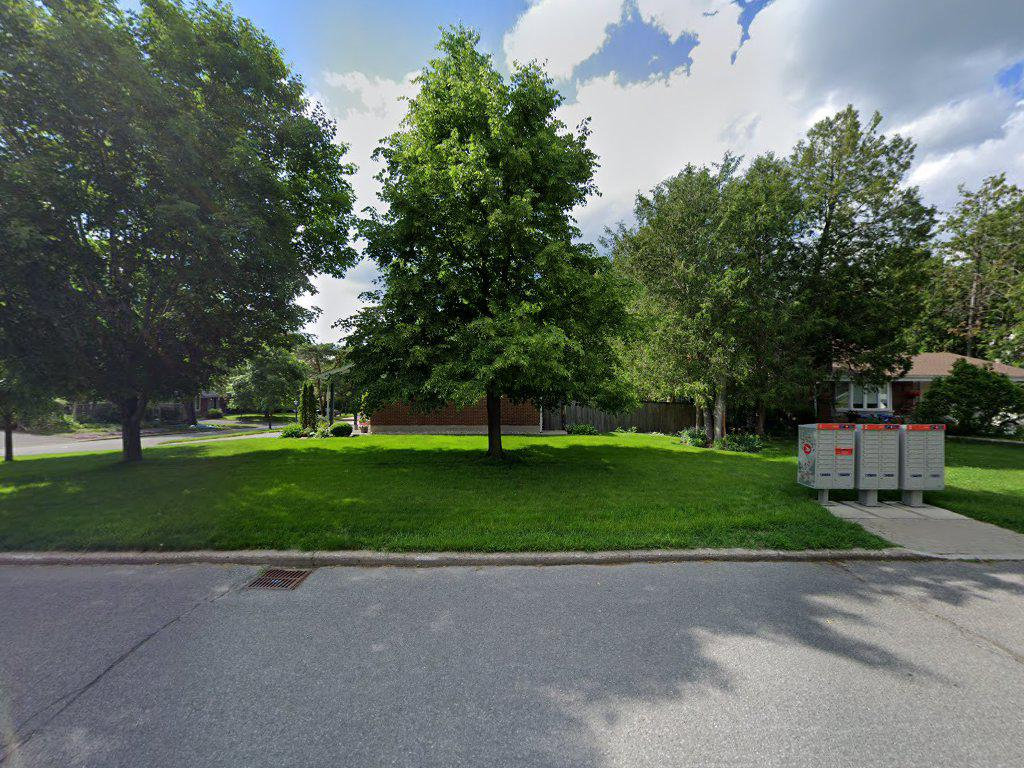trunk: (114, 395, 150, 468), (483, 383, 508, 463)
